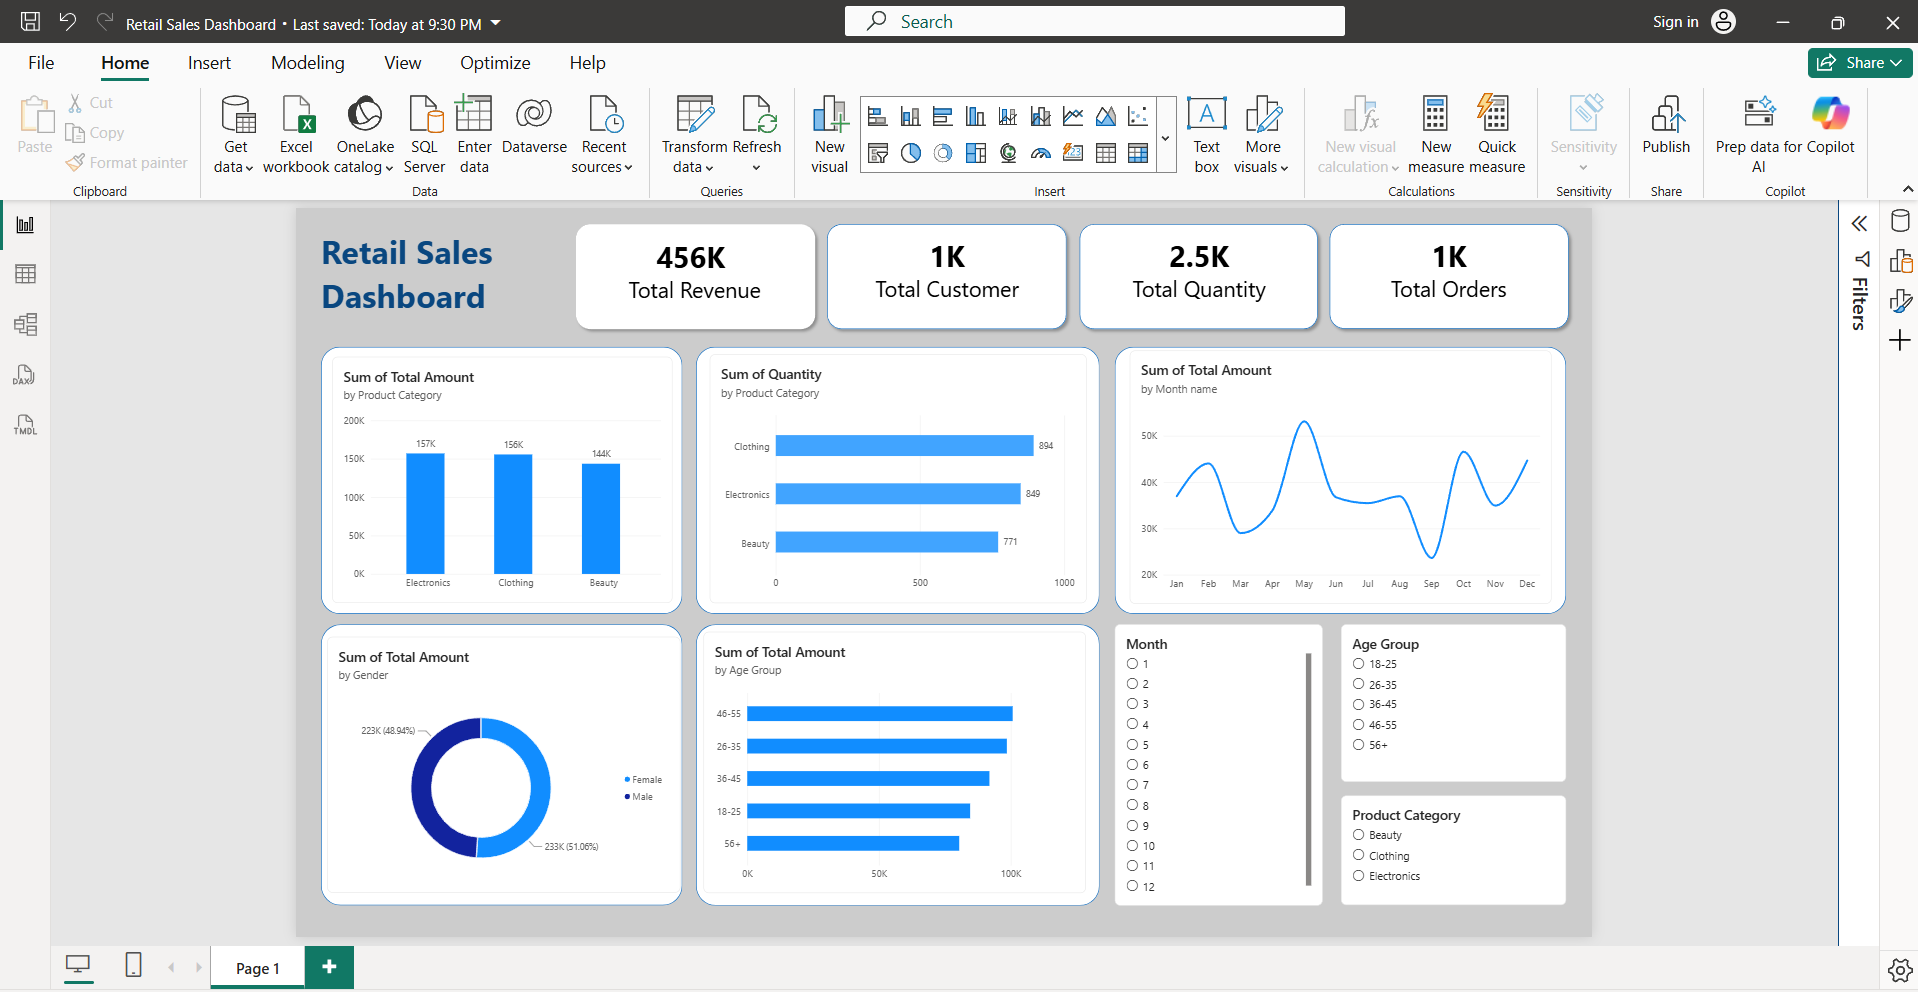

The page's visual inventory and layout, read from the dashboard file:
{"tool":"powerbi","page":{"name":"Page 1","canvas":[1920,1080],"ordinal":0},"visuals":[{"type":"shape","box":[592,617,598,417],"z":0},{"type":"shape","box":[37.5,616.7,535.4,416.7],"z":1000},{"type":"shape","box":[1212.5,206.2,668.8,395.8],"z":2000},{"type":"shape","box":[591.7,206.2,597.9,395.8],"z":3000},{"type":"shape","box":[37.5,206.2,535.4,395.8],"z":4000},{"type":"shape","box":[405.4,14.5,372.8,173.7],"z":5000},{"type":"shape","box":[778.2,14.5,372.8,173.7],"z":6000},{"type":"shape","box":[1150.9,14.5,371,173.7],"z":7000},{"type":"shape","box":[1521.4,15.1,372.2,173.1],"z":8000},{"type":"textbox","box":[37.5,31.2,370.8,133.3],"z":9000},{"type":"textbox","box":[1558.2,41.1,300.8,114.7],"z":10000},{"type":"clusteredColumnChart","fields":{"Category":["Retail sales Dataset.Product Category"],"Y":["Sum(Retail sales Dataset.Total Amount)"]},"box":[54.2,220.8,504.2,364.6],"z":11000},{"type":"textbox","box":[430.7,43.3,318.1,121.2],"z":12000},{"type":"textbox","box":[813.7,41.1,303,121.2],"z":13000},{"type":"textbox","box":[1164.3,41.1,346.3,127.7],"z":14000},{"type":"barChart","fields":{"Category":["Retail sales Dataset.Product Category"],"Y":["Sum(Retail sales Dataset.Quantity)"]},"box":[612.5,216.7,558.3,368.8],"z":15000},{"type":"lineChart","fields":{"Category":["Retail sales Dataset.Month name"],"Y":["Sum(Retail sales Dataset.Total Amount)"]},"box":[1235.4,210.4,625,375],"z":16000},{"type":"donutChart","fields":{"Series":["Retail sales Dataset.Gender"],"Y":["Sum(Retail sales Dataset.Total Amount)"]},"box":[45.8,635.4,522.9,379.2],"z":17000},{"type":"barChart","fields":{"Category":["Retail sales Dataset.Age Group"],"Y":["Sum(Retail sales Dataset.Total Amount)"]},"box":[604.2,627.1,566.7,387.5],"z":18000},{"type":"listSlicer","fields":{"Values":["Retail sales Dataset.Product Category"]},"box":[1547.9,870.8,333.3,162.5],"z":18001},{"type":"listSlicer","fields":{"Values":["Retail sales Dataset.Age Group"]},"box":[1547.9,616.7,333.3,233.3],"z":18002},{"type":"listSlicer","fields":{"Values":["Retail sales Dataset.Month"]},"box":[1212.5,616.7,308.3,416.7],"z":18003}]}

Visuals, with their boxes on the page's 1920x1080 design canvas (x1, y1, x2, y2). These are canvas units, not pixel positions in the 1918x992 screenshot, which may show the page scaled, cropped or inside an application window:
shape: (left=592, top=617, right=1190, bottom=1034)
shape: (left=38, top=617, right=573, bottom=1033)
shape: (left=1212, top=206, right=1881, bottom=602)
shape: (left=592, top=206, right=1190, bottom=602)
shape: (left=38, top=206, right=573, bottom=602)
shape: (left=405, top=14, right=778, bottom=188)
shape: (left=778, top=14, right=1151, bottom=188)
shape: (left=1151, top=14, right=1522, bottom=188)
shape: (left=1521, top=15, right=1894, bottom=188)
textbox: (left=38, top=31, right=408, bottom=164)
textbox: (left=1558, top=41, right=1859, bottom=156)
clusteredColumnChart - Retail sales Dataset.Product Category x Sum(Retail sales Dataset.Total Amount): (left=54, top=221, right=558, bottom=585)
textbox: (left=431, top=43, right=749, bottom=164)
textbox: (left=814, top=41, right=1117, bottom=162)
textbox: (left=1164, top=41, right=1511, bottom=169)
barChart - Retail sales Dataset.Product Category x Sum(Retail sales Dataset.Quantity): (left=612, top=217, right=1171, bottom=586)
lineChart - Retail sales Dataset.Month name x Sum(Retail sales Dataset.Total Amount): (left=1235, top=210, right=1860, bottom=585)
donutChart - Retail sales Dataset.Gender x Sum(Retail sales Dataset.Total Amount): (left=46, top=635, right=569, bottom=1015)
barChart - Retail sales Dataset.Age Group x Sum(Retail sales Dataset.Total Amount): (left=604, top=627, right=1171, bottom=1015)
listSlicer - Retail sales Dataset.Product Category: (left=1548, top=871, right=1881, bottom=1033)
listSlicer - Retail sales Dataset.Age Group: (left=1548, top=617, right=1881, bottom=850)
listSlicer - Retail sales Dataset.Month: (left=1212, top=617, right=1521, bottom=1033)
